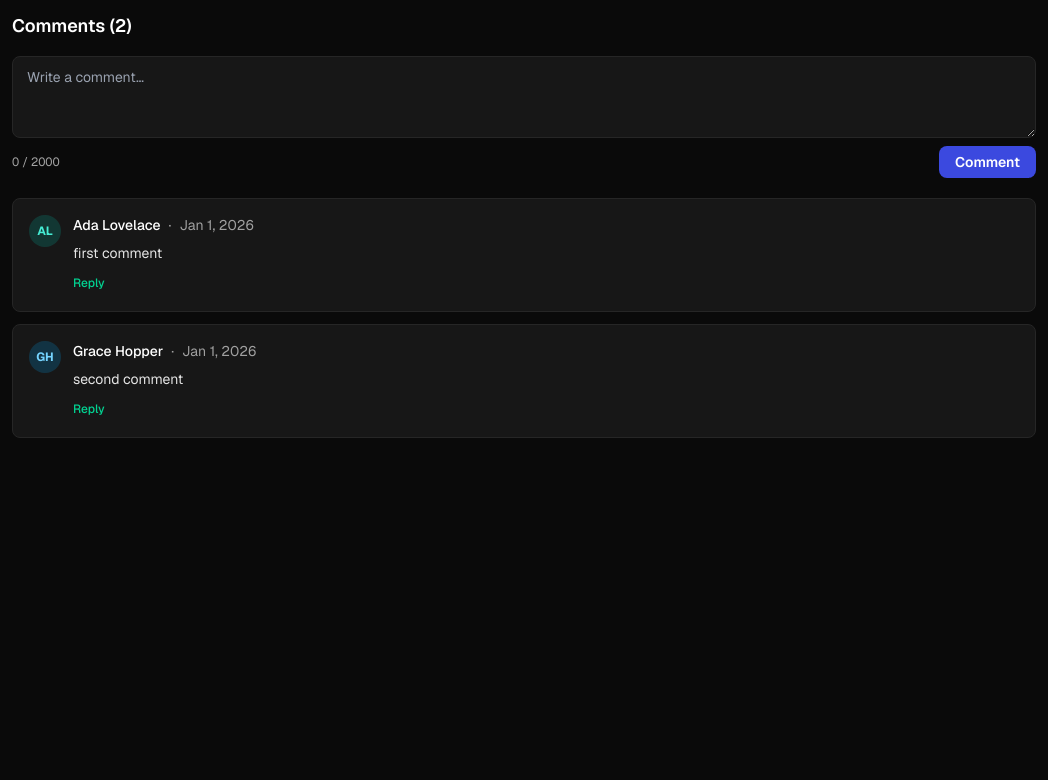
CommentList › open-form coordination › switches straight to a different comment's reply form when the open one is empty
Step 1. Click the button "Reply" below "first comment" → (89, 283), box [73,271,105,295]
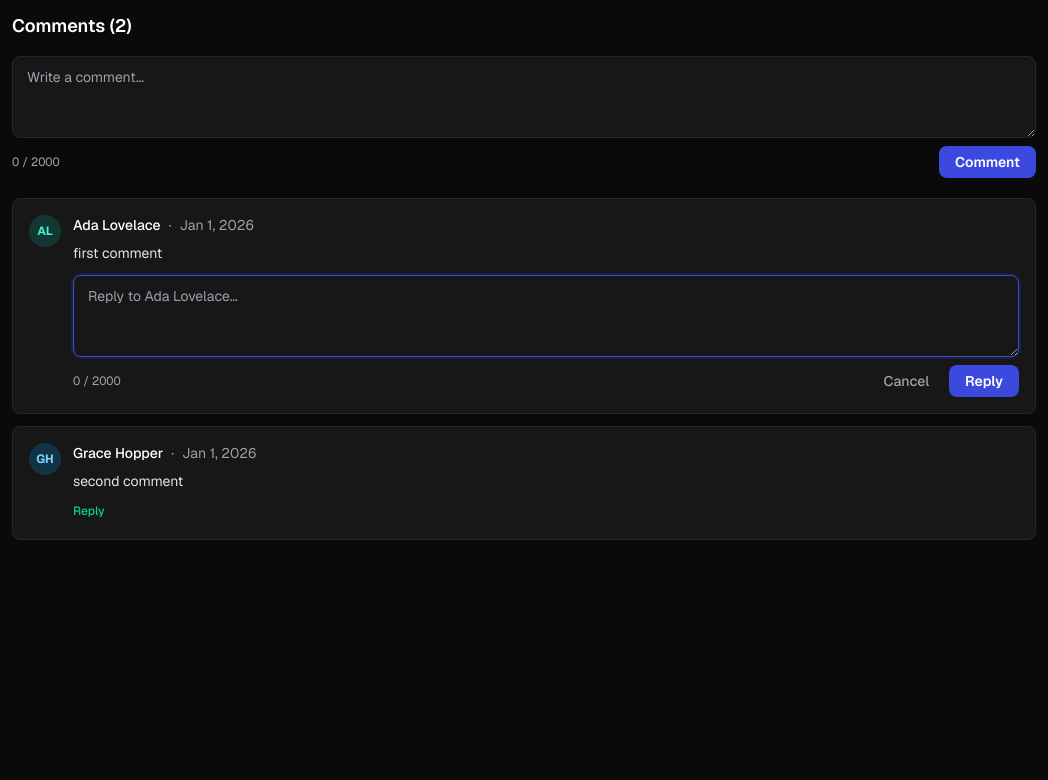
Expected: the text box with placeholder "Reply to Ada Lovelace…" is shown, [73,275,1019,357]
Step 2. Click the button "Reply" below "second comment" → (89, 511), box [73,499,105,523]
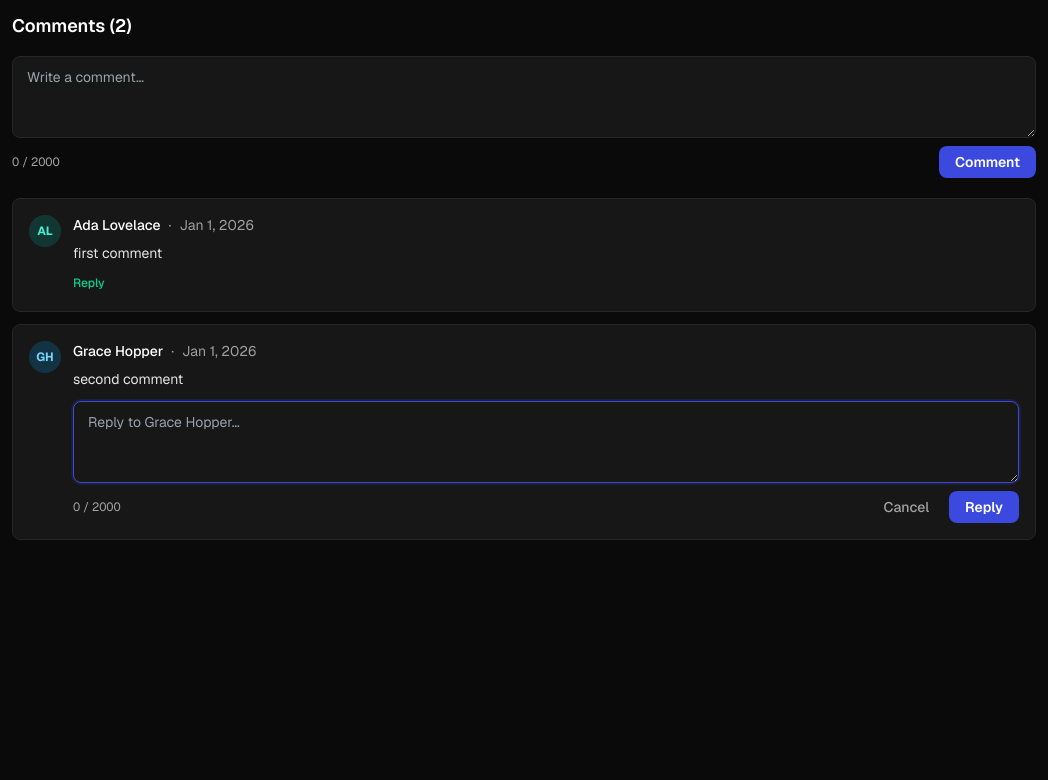
Expected: the field with placeholder "Reply to Ada Lovelace…" is not shown
Expected: the text box with placeholder "Reply to Grace Hopper…" is shown, [73,401,1019,483]
